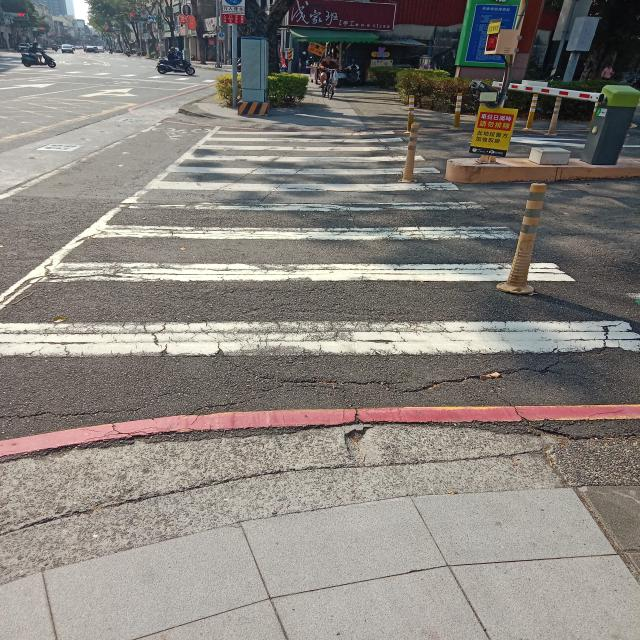zebra_crossing: (286, 68, 502, 199), (163, 43, 490, 123), (0, 33, 39, 106)
